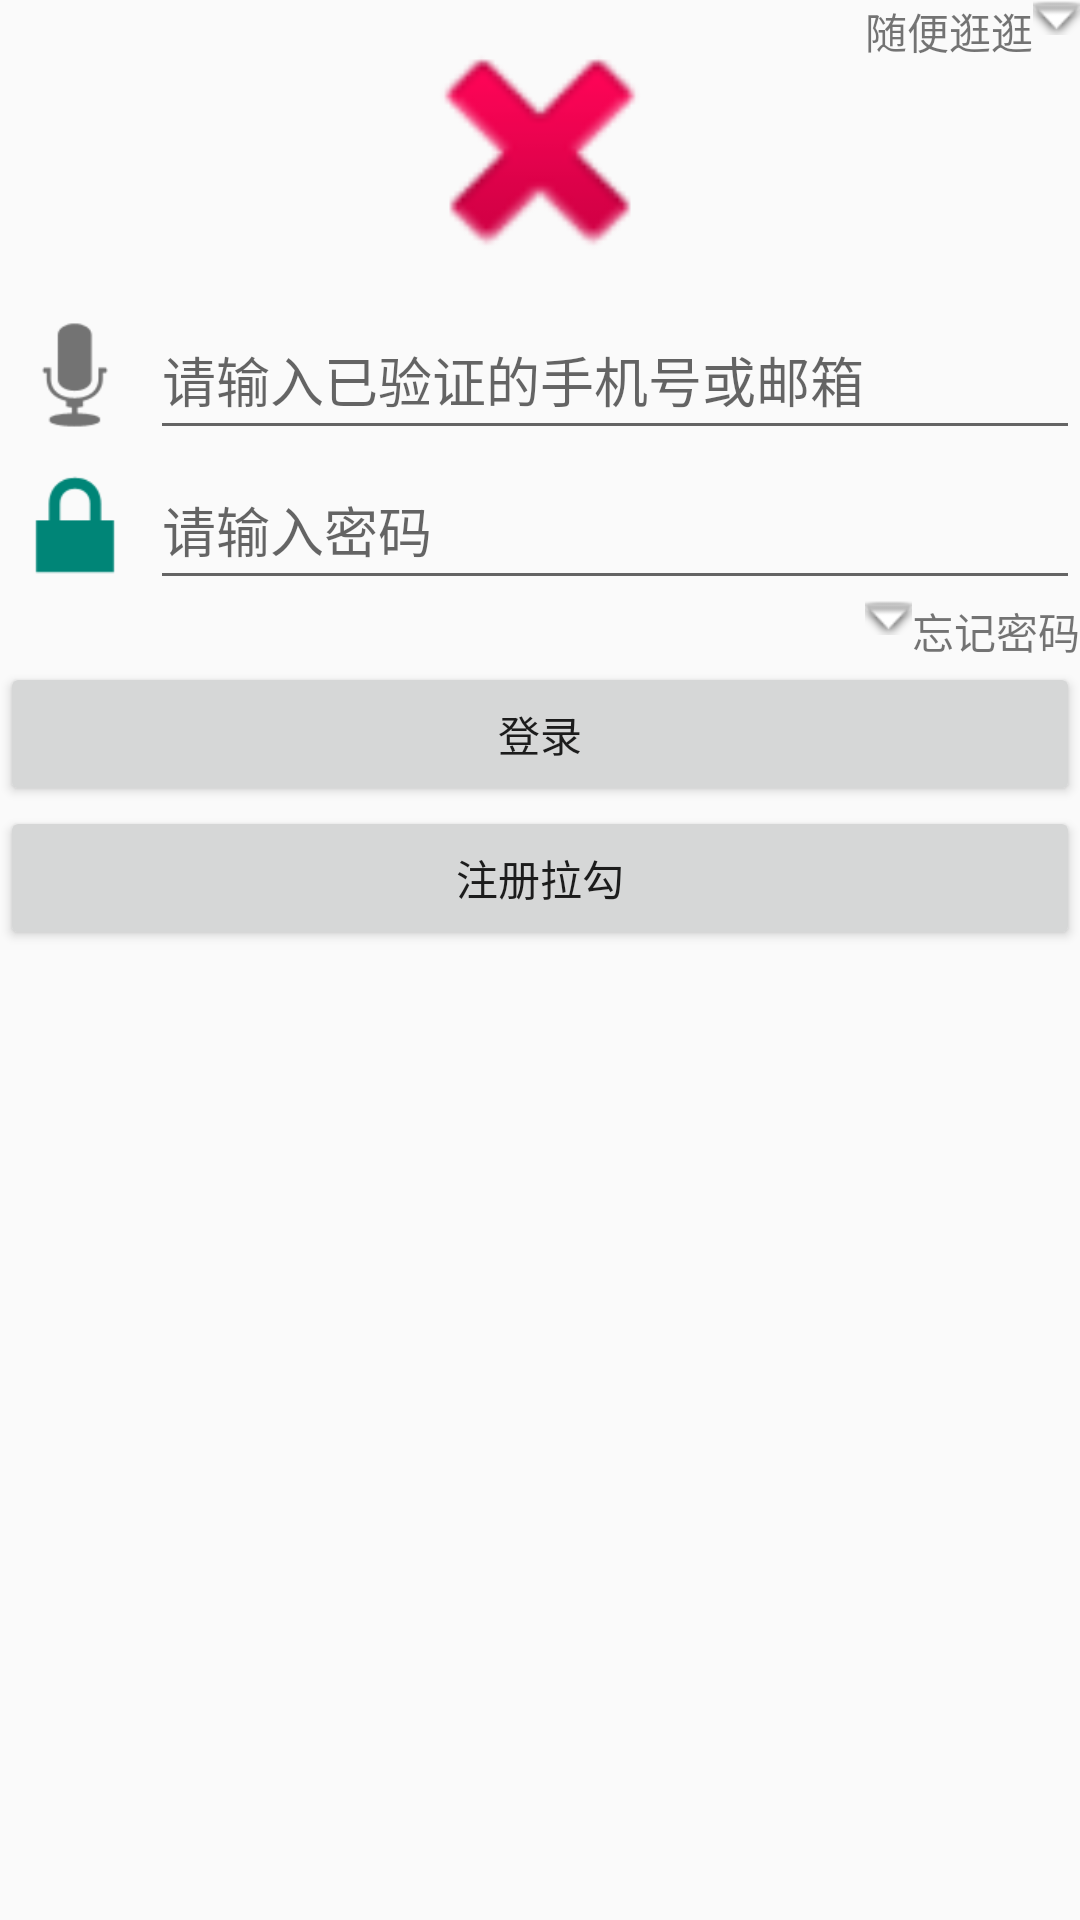

Screen size 1080×1920. Icon name, then its center in pixels as point (x, y):
arrow down float: point (1056, 18), point (888, 618)
delete: point (540, 151)
lock: point (75, 525)
speak now: point (75, 375)
